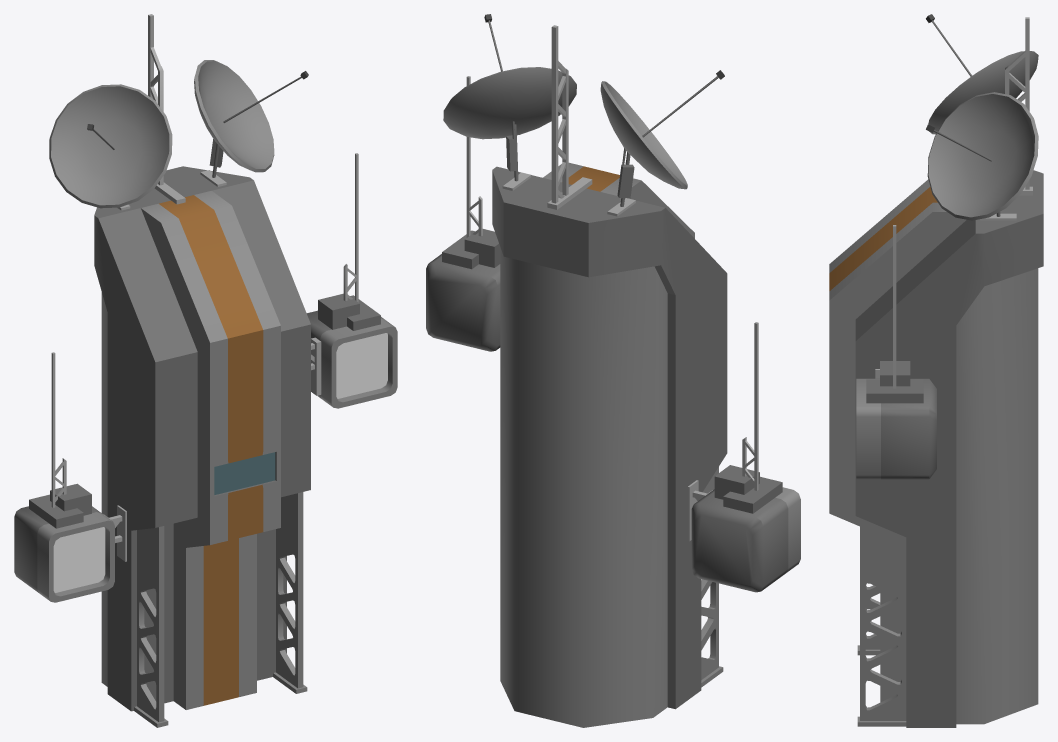
The model's file is n_computer_large.glb.
3 renders of one model, left to right at view 1: azimuth 30°, elevation 25°; view 2: azimuth 150°, elevation 25°; view 3: azimuth 270°, elevation 25°, orthographic. The views are drawn at different scales.
Visible parts, largest first — view 1: Computer_Large; view 2: Computer_Large; view 3: Computer_Large.
Boxes of the visible parts, x1,y1,x2,y2 form: Computer_Large: [14, 14, 397, 727]; Computer_Large: [426, 14, 800, 727]; Computer_Large: [829, 14, 1043, 727].
Bounding box in the file's own units: 1.29 × 2.38 × 0.6898.
